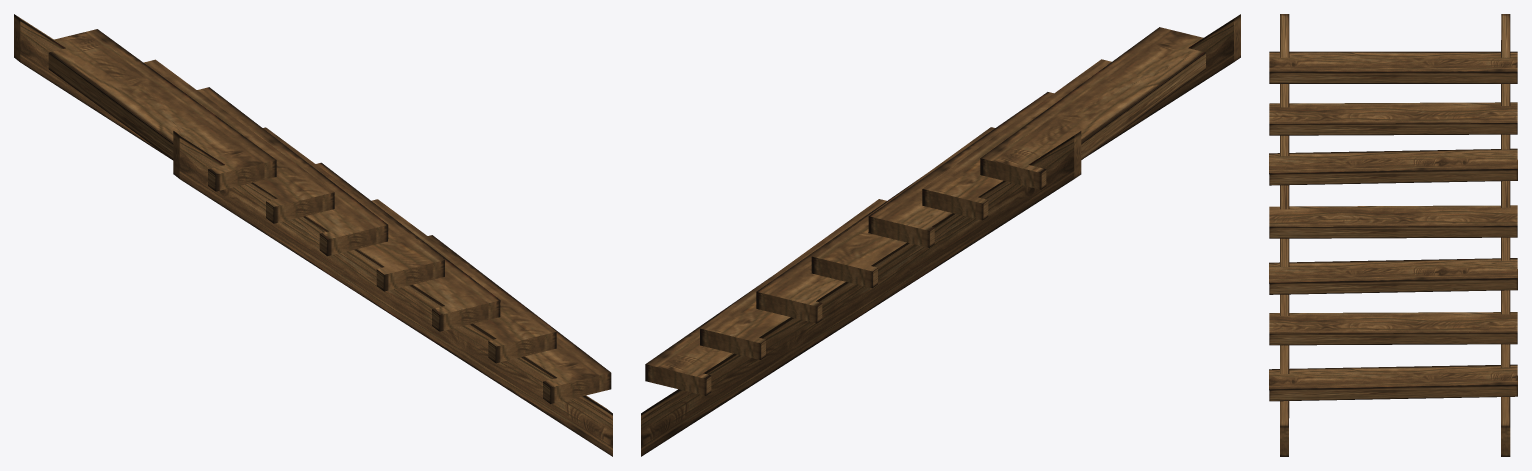
File: WoodStaircaseSmall.obj
3 views of the same model, side by side, from view 1: azimuth 30°, elevation 25°; view 2: azimuth 150°, elevation 25°; view 3: azimuth 270°, elevation 25° (orthographic). The views are drawn at different scales.
Parts seen in each view (by area): view 1: Mesh; view 2: Mesh; view 3: Mesh.
Part boxes in pixels (x1=…): Mesh: x1=14, y1=14, x2=612, y2=456; Mesh: x1=641, y1=14, x2=1240, y2=456; Mesh: x1=1269, y1=14, x2=1517, y2=456.
Size of the model in its own units: 3.69 by 3.47 by 2.64.
